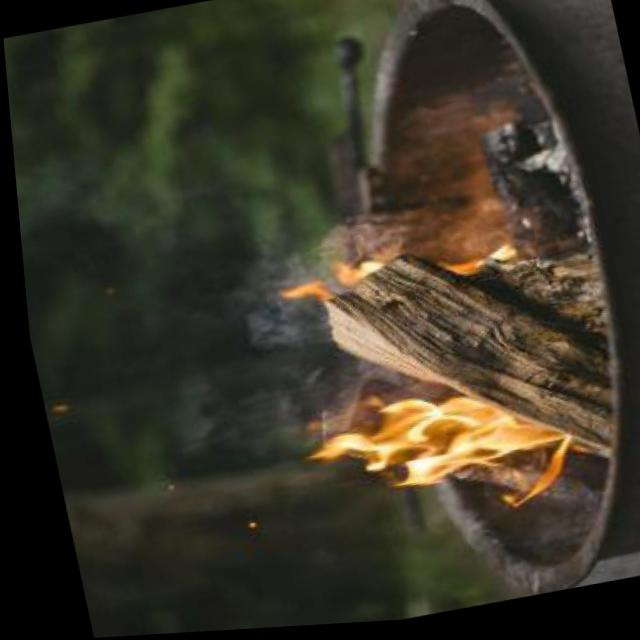Fire: (297, 372, 573, 530), (252, 231, 515, 326)
